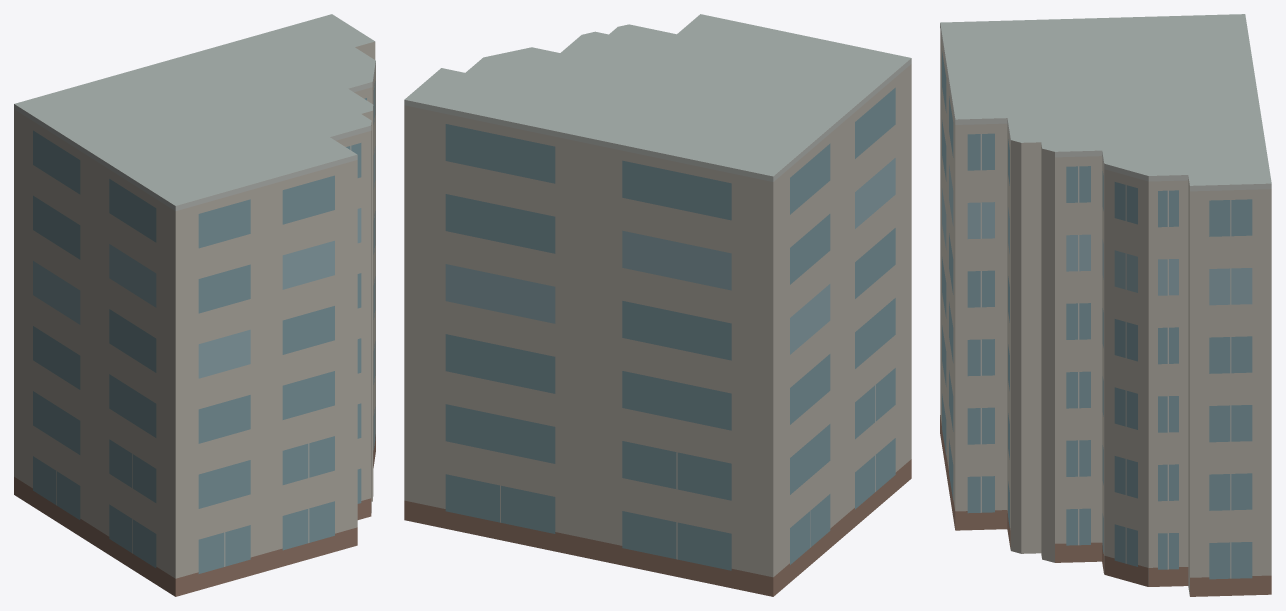
File: survey-upis-32909684.glb
The picture shows the model from 3 angles, left to right: view 1: azimuth 30°, elevation 25°; view 2: azimuth 150°, elevation 25°; view 3: azimuth 270°, elevation 25°; orthographic projection. The views are drawn at different scales.
Visible parts, largest first — view 1: survey-upis-32909684.tmp; view 2: survey-upis-32909684.tmp; view 3: survey-upis-32909684.tmp.
Part boxes in pixels (<box>): survey-upis-32909684.tmp: <box>14,14,375,596</box>; survey-upis-32909684.tmp: <box>404,14,911,596</box>; survey-upis-32909684.tmp: <box>940,14,1271,596</box>.
Bounding box in the file's own units: 16.42 × 18.3 × 13.39.
